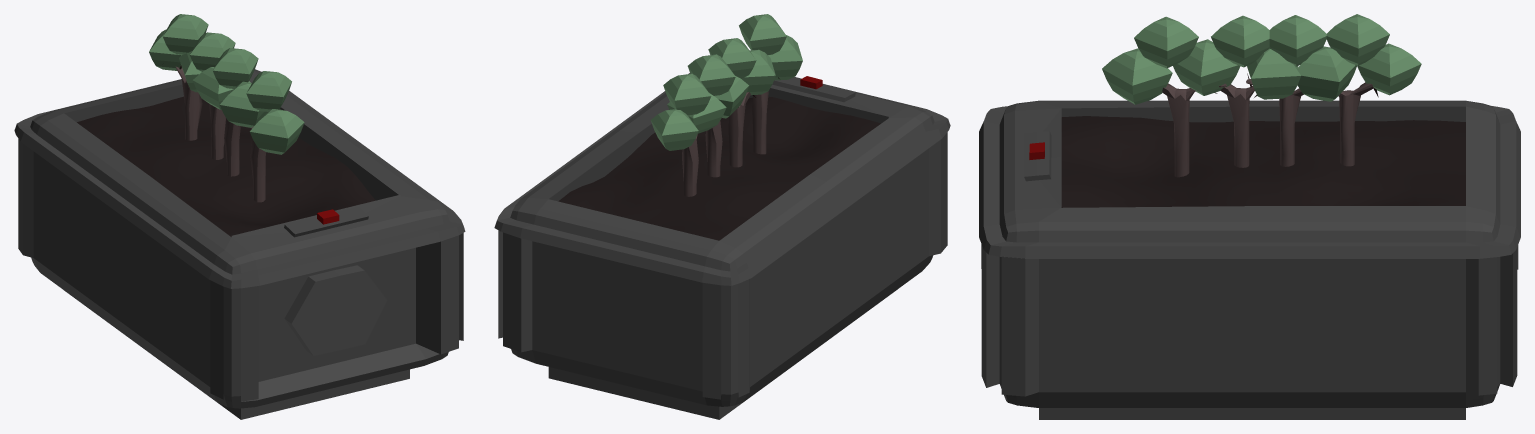
The picture shows the model from 3 angles, left to right: view 1: azimuth 30°, elevation 25°; view 2: azimuth 150°, elevation 25°; view 3: azimuth 270°, elevation 25°; orthographic projection. The views are drawn at different scales.
Visible parts, largest first — view 1: Botanical_Table, Soil, pasted__pSphere12; view 2: Botanical_Table, Soil, pasted__pSphere12; view 3: Botanical_Table, Soil, pasted__pSphere12.
Boxes of the visible parts, x1,y1,x2,y2 form: Botanical_Table: (14, 69, 465, 419); Soil: (77, 96, 375, 236); pasted__pSphere12: (149, 14, 304, 202); Botanical_Table: (494, 73, 950, 419); Soil: (558, 96, 880, 240); pasted__pSphere12: (650, 14, 802, 196); Botanical_Table: (979, 100, 1520, 419); Soil: (1061, 116, 1465, 207); pasted__pSphere12: (1102, 14, 1421, 177).
Bounding box in the file's own units: 20.39 × 22.67 × 31.93.
